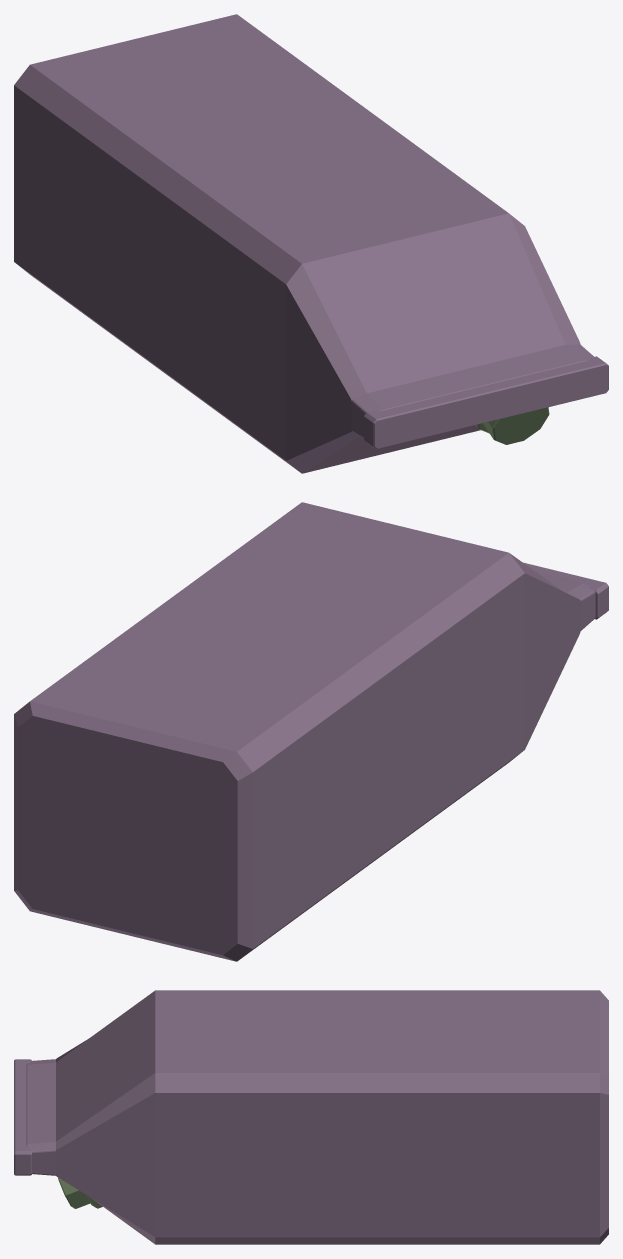
The model's file is grape_juice.glb.
The picture shows the model from 3 angles, top to bottom: view 1: azimuth 30°, elevation 25°; view 2: azimuth 150°, elevation 25°; view 3: azimuth 270°, elevation 25°; orthographic projection. The views are drawn at different scales.
Parts seen in each view (by area): view 1: grape_juice; view 2: grape_juice; view 3: grape_juice.
Boxes of the visible parts, x1,y1,x2,y2 form: grape_juice: (14,14,608,473); grape_juice: (14,502,608,961); grape_juice: (14,990,608,1244).
Size of the model in its own units: 0.075 by 0.0682 by 0.198.
